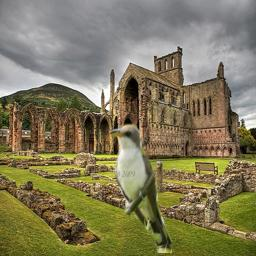Cuckoo: (109, 123, 172, 253)
